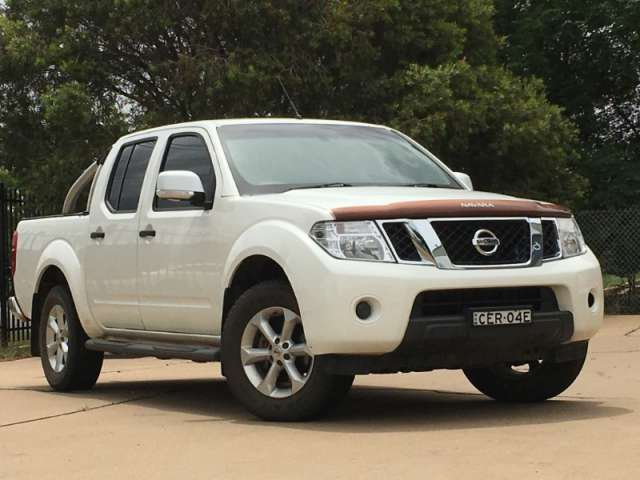pickup: (7, 114, 607, 432)
